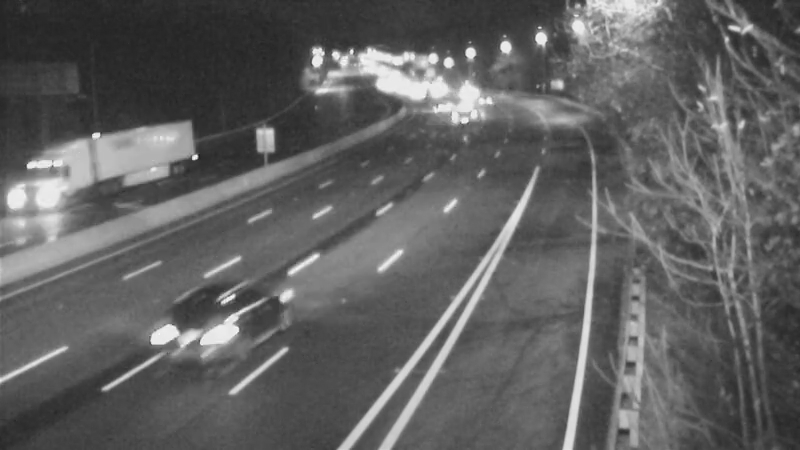vehicle: (136, 289, 246, 399), (59, 140, 139, 220), (438, 65, 488, 115), (461, 75, 511, 125), (411, 84, 461, 134), (441, 91, 491, 141)
